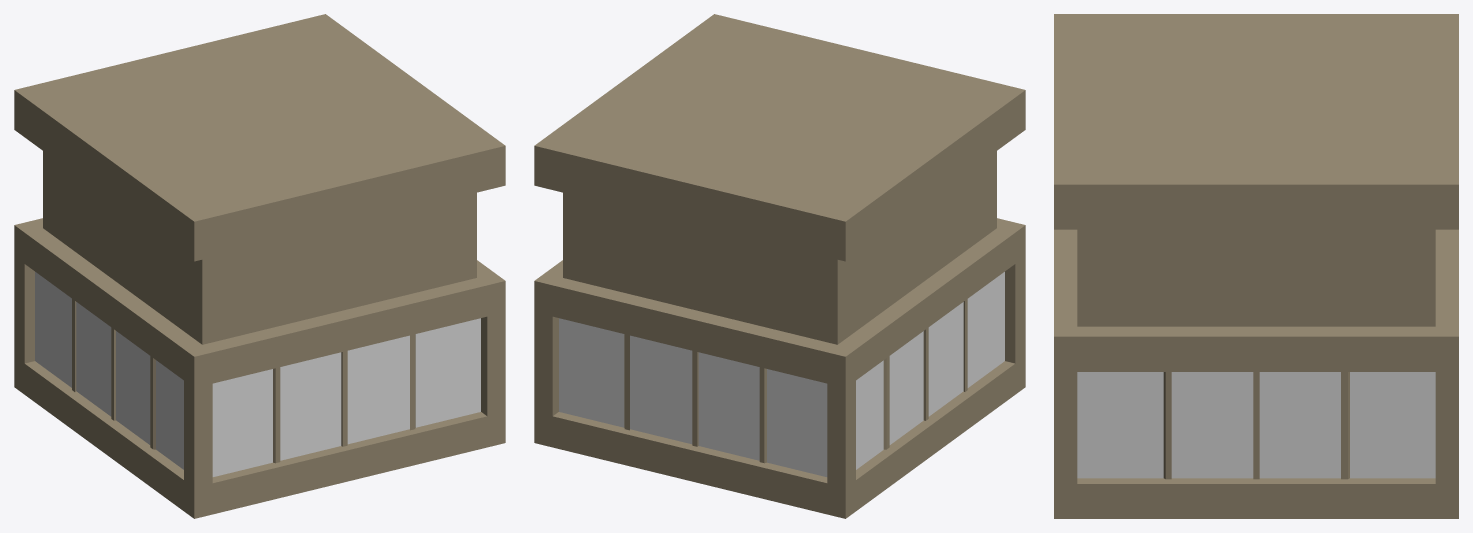
File: skyscraper top section_copper.fbx
3 renders of one model, left to right at view 1: azimuth 30°, elevation 25°; view 2: azimuth 150°, elevation 25°; view 3: azimuth 270°, elevation 25°, orthographic. The views are drawn at different scales.
Parts seen in each view (by area): view 1: mid section skyscraper; view 2: mid section skyscraper; view 3: mid section skyscraper.
Boxes of the visible parts, x1,y1,x2,y2 form: mid section skyscraper: [14, 14, 505, 518]; mid section skyscraper: [534, 14, 1025, 518]; mid section skyscraper: [1054, 14, 1458, 518].
Size of the model in its own units: 1307 by 1192 by 1308.
